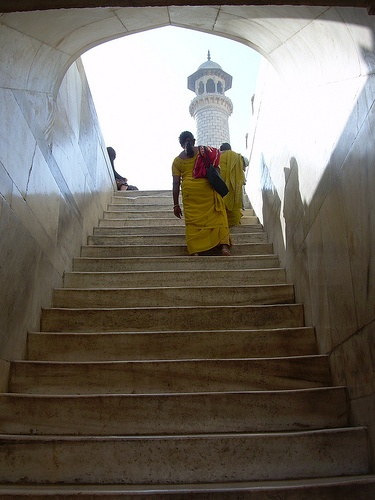stairs_up: (4, 184, 375, 492)
